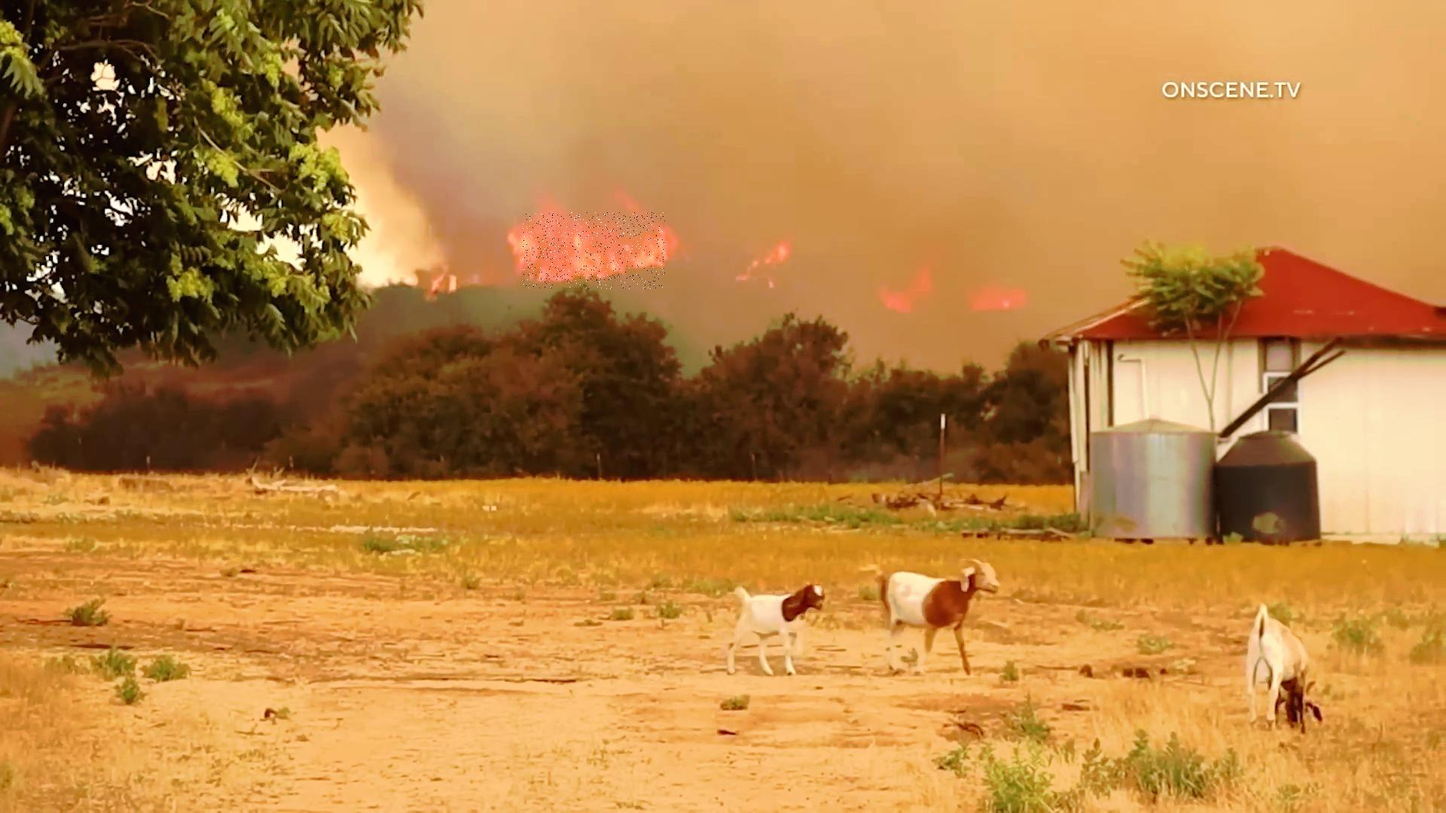fire: (522, 213, 665, 290)
